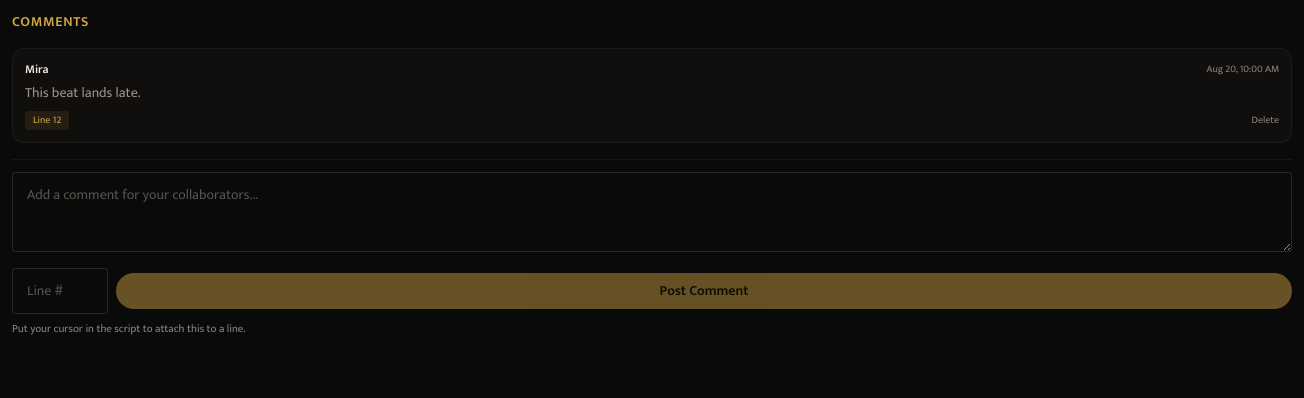
Test: deleting › keeps the note visible when the server refuses
Expected: the text "This beat lands late." is shown, [25,81,140,104]
What coordinates should you click on to do the following:
click the button "Delete"
I would click on:
 (1265, 120)
Its box is [1252,113,1279,128].
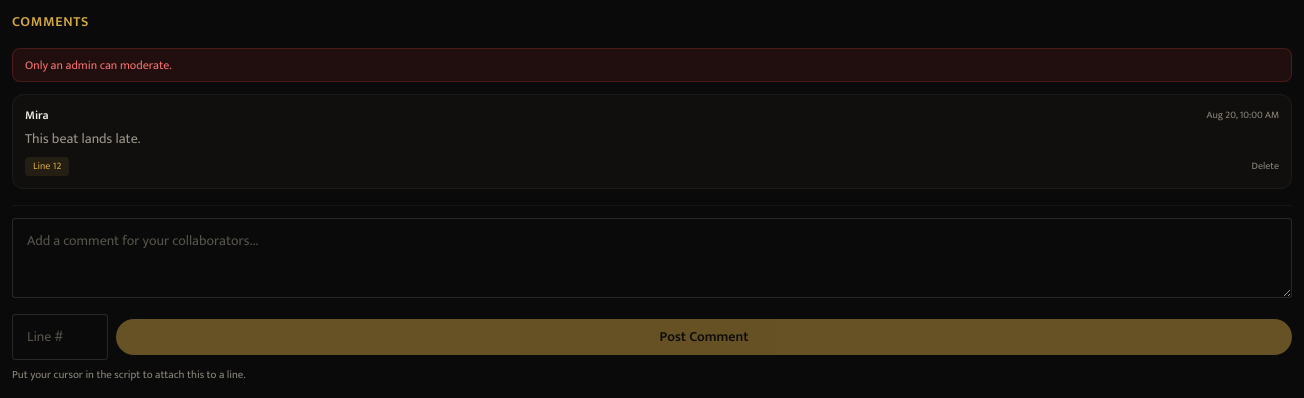
Expected: the text "This beat lands late." is shown, [25,127,140,150]
Result: the text "Only an admin can moderate." is shown at [12,48,1292,82]
